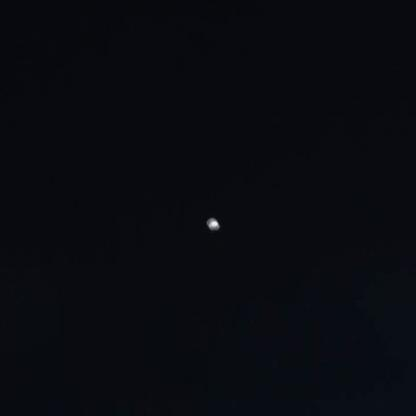ball: (199, 211, 225, 235)
